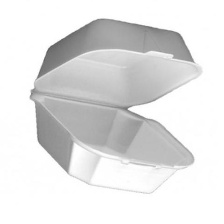foam_box: (23, 15, 206, 200)
